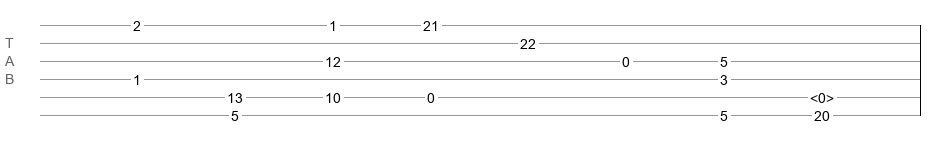0: (427, 90, 435, 100), (622, 54, 630, 64)
1: (133, 72, 141, 82), (329, 18, 337, 28)
10: (325, 90, 341, 100)
12: (325, 54, 341, 64)
13: (227, 90, 243, 100)
2: (133, 18, 141, 28)
20: (814, 108, 830, 118)
21: (423, 18, 439, 28)
22: (520, 36, 536, 46)
3: (720, 72, 728, 82)
5: (231, 108, 239, 118), (720, 108, 728, 118), (720, 54, 728, 64)
harmonic: (810, 90, 834, 100)
